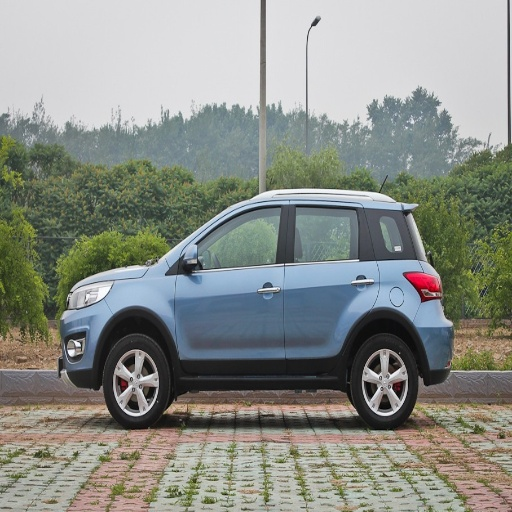back_bumper: (415, 321, 452, 371)
back_left_door: (283, 201, 378, 370)
front_left_door: (175, 201, 288, 373)
